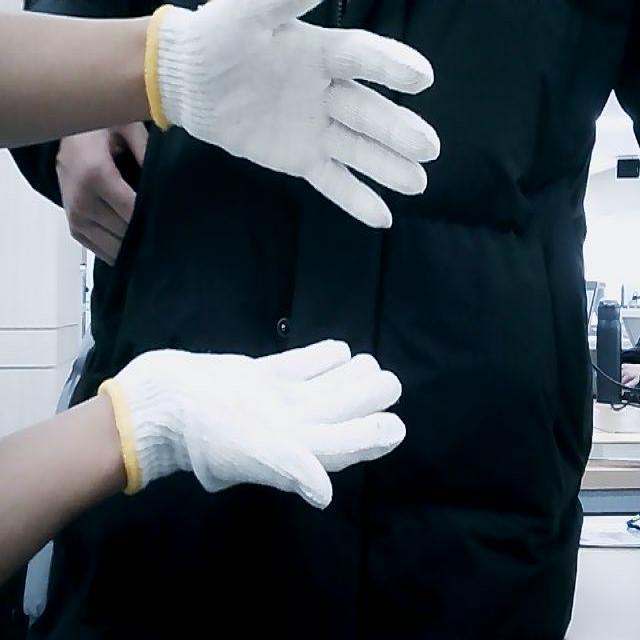gloves: (146, 0, 442, 230), (105, 338, 407, 510)
